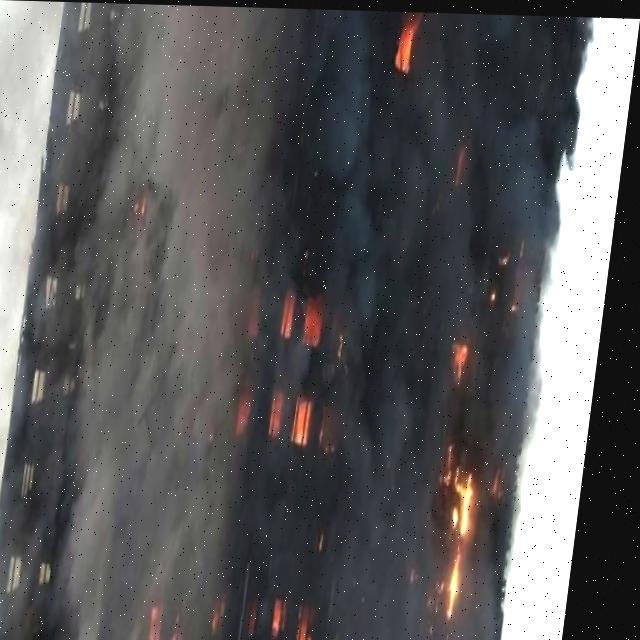Fire: (232, 283, 368, 456), (434, 457, 498, 619), (386, 13, 420, 72)
